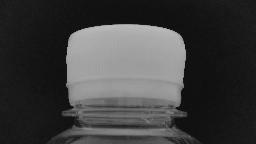Broken Cap: (53, 20, 195, 122)
